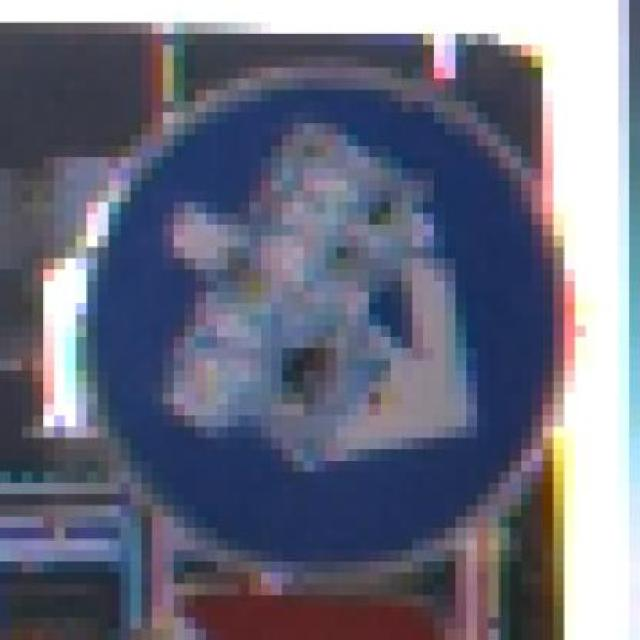Keep-Right: (76, 56, 586, 607)
